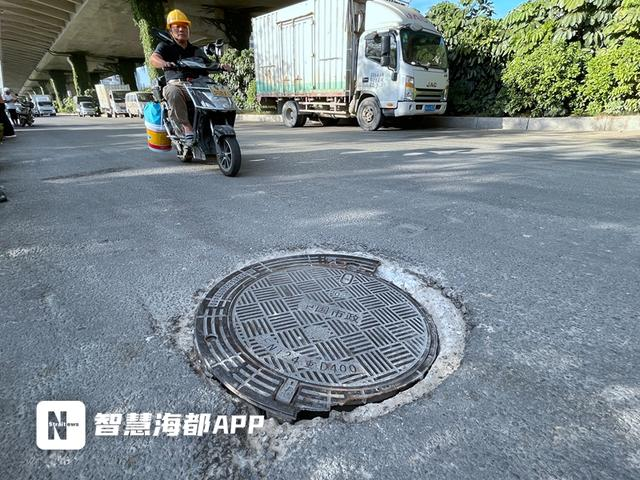circle: (141, 225, 513, 444)
